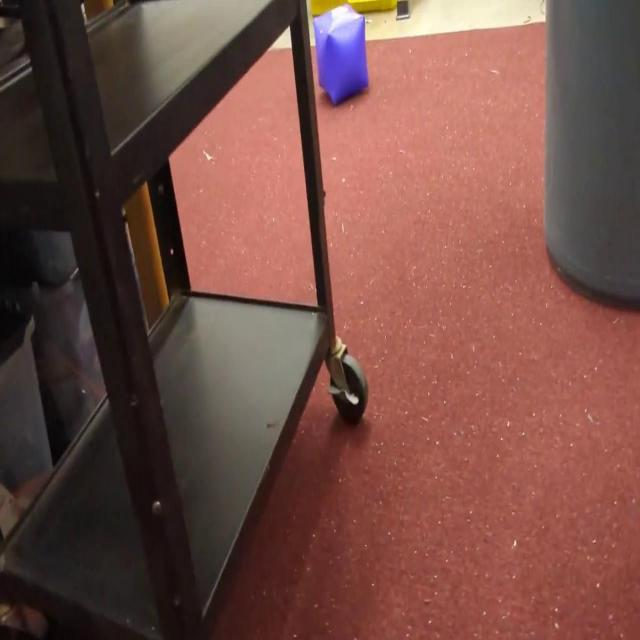frc_cube: (313, 7, 367, 103)
